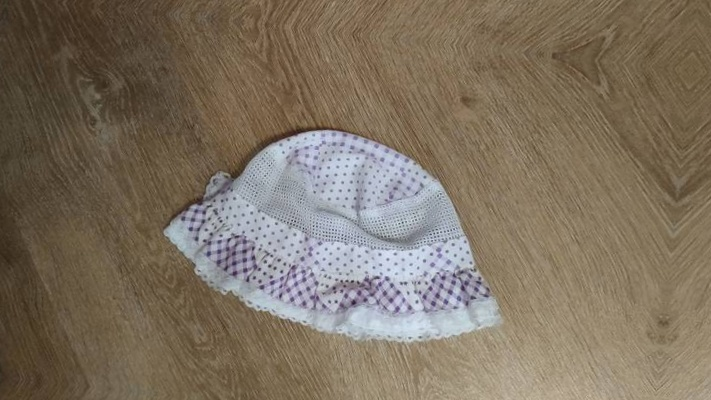Hat: (121, 91, 538, 376)
